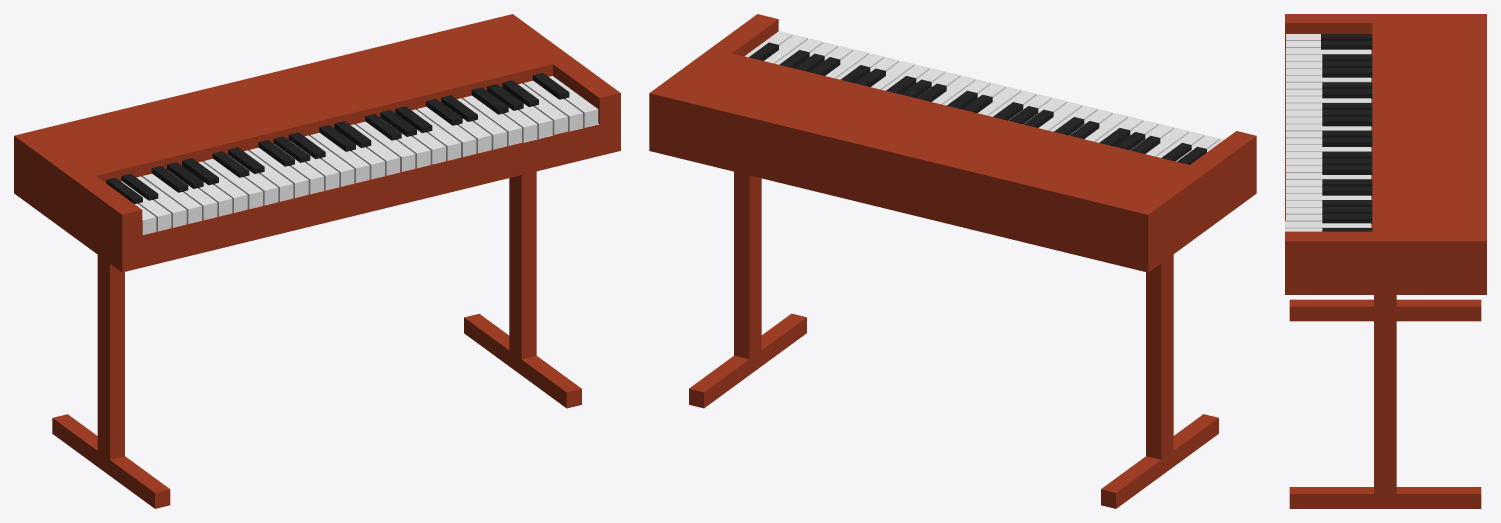
File: piano1.gltf
The picture shows the model from 3 angles, left to right: view 1: azimuth 30°, elevation 25°; view 2: azimuth 150°, elevation 25°; view 3: azimuth 270°, elevation 25°; orthographic projection. The views are drawn at different scales.
Visible parts, largest first — view 1: Cube; view 2: Cube; view 3: Cube.
Part boxes in pixels (x1,y1,x2,y2): Cube: (14, 14, 620, 508); Cube: (649, 14, 1256, 508); Cube: (1285, 14, 1486, 508).
Bounding box in the file's own units: 2 × 1.17 × 0.751.
Materials: 1 (1 with a texture image).
